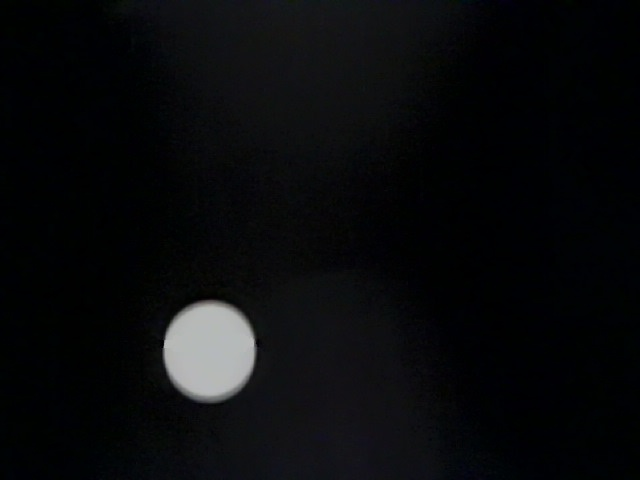YHLJ: (354, 127, 438, 247)
